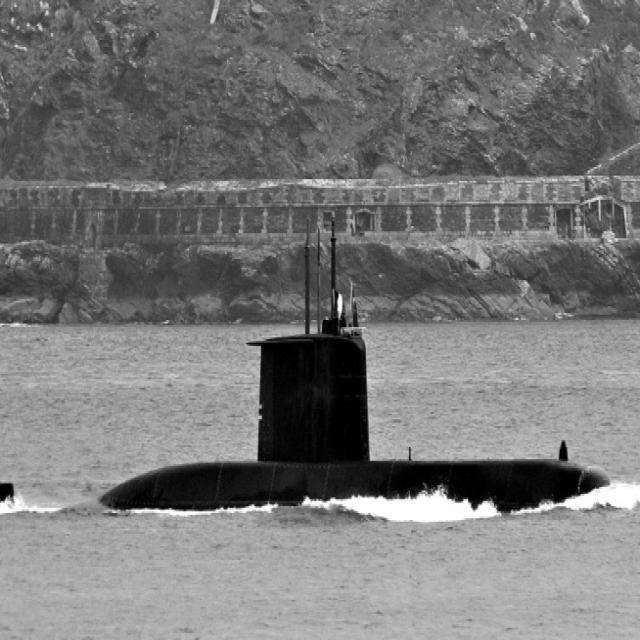submarine: (1, 196, 637, 507)
